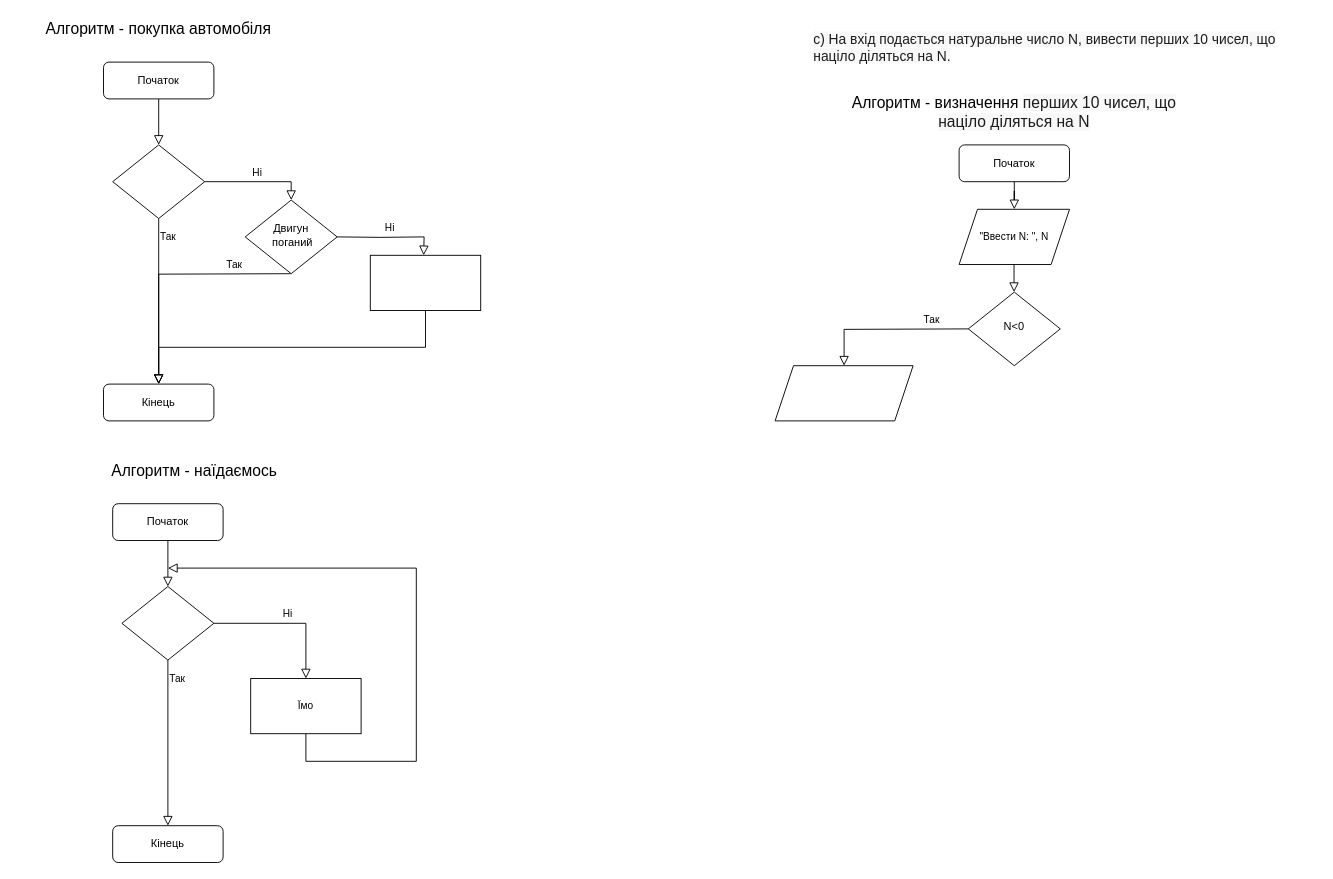
The diagram is 1333 pixels wide and 879 high, and some of its shapes have lost their labels. The box of each missing label's shape, as (x1, y1, x2, y2) in pixels:
N, " не є натуральним числом": (774, 365, 913, 421)
Кузов поганий: (112, 144, 205, 218)
Купуємо машину: (369, 254, 481, 310)
Холодильник пустий: (121, 586, 214, 660)
